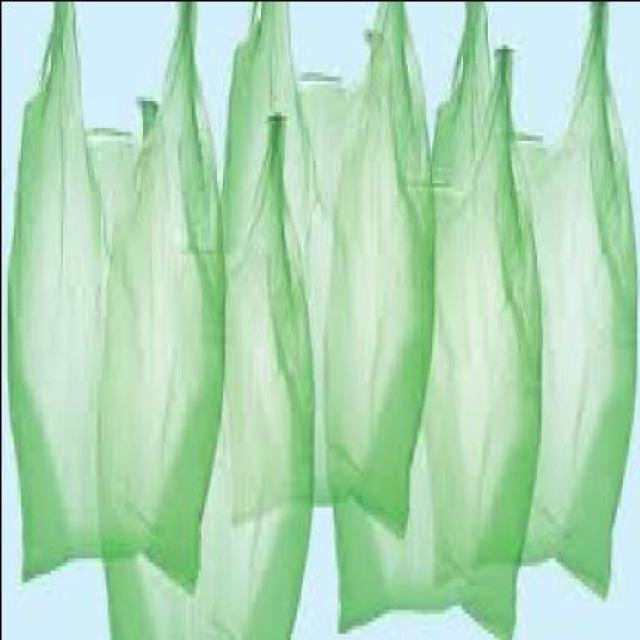PLASTIC: (324, 27, 544, 636), (8, 2, 230, 584), (98, 95, 316, 636), (445, 1, 637, 592), (225, 2, 440, 529)
